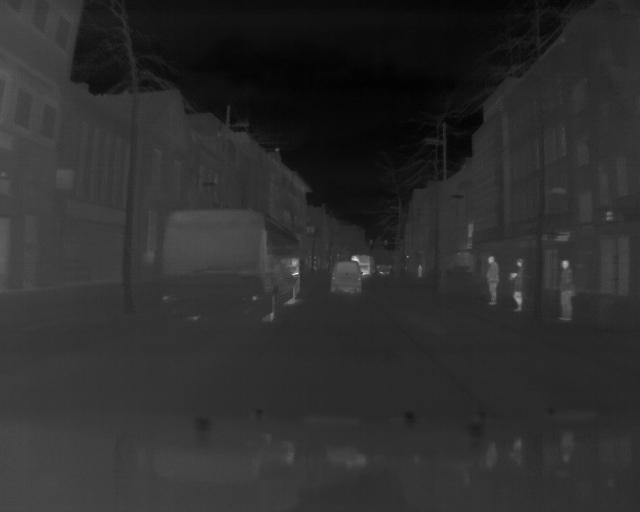car: (160, 210, 302, 323), (329, 261, 364, 296)
person: (558, 259, 573, 322), (482, 253, 499, 308), (510, 258, 524, 311)
